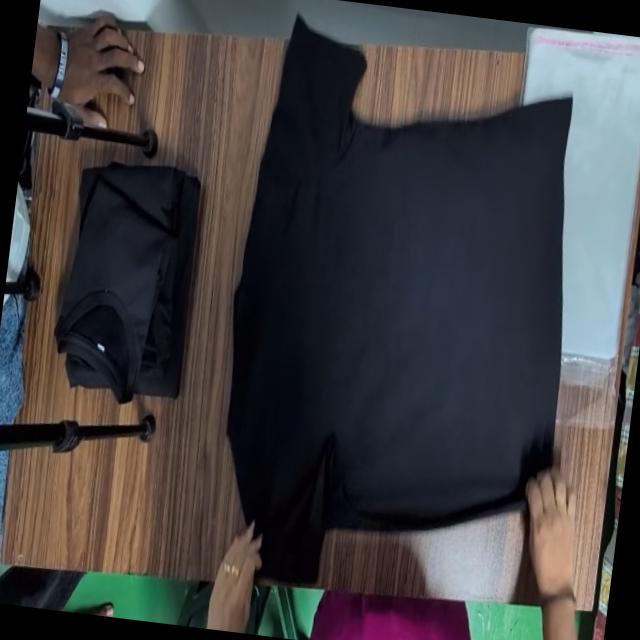new-garment: (226, 19, 570, 579)
